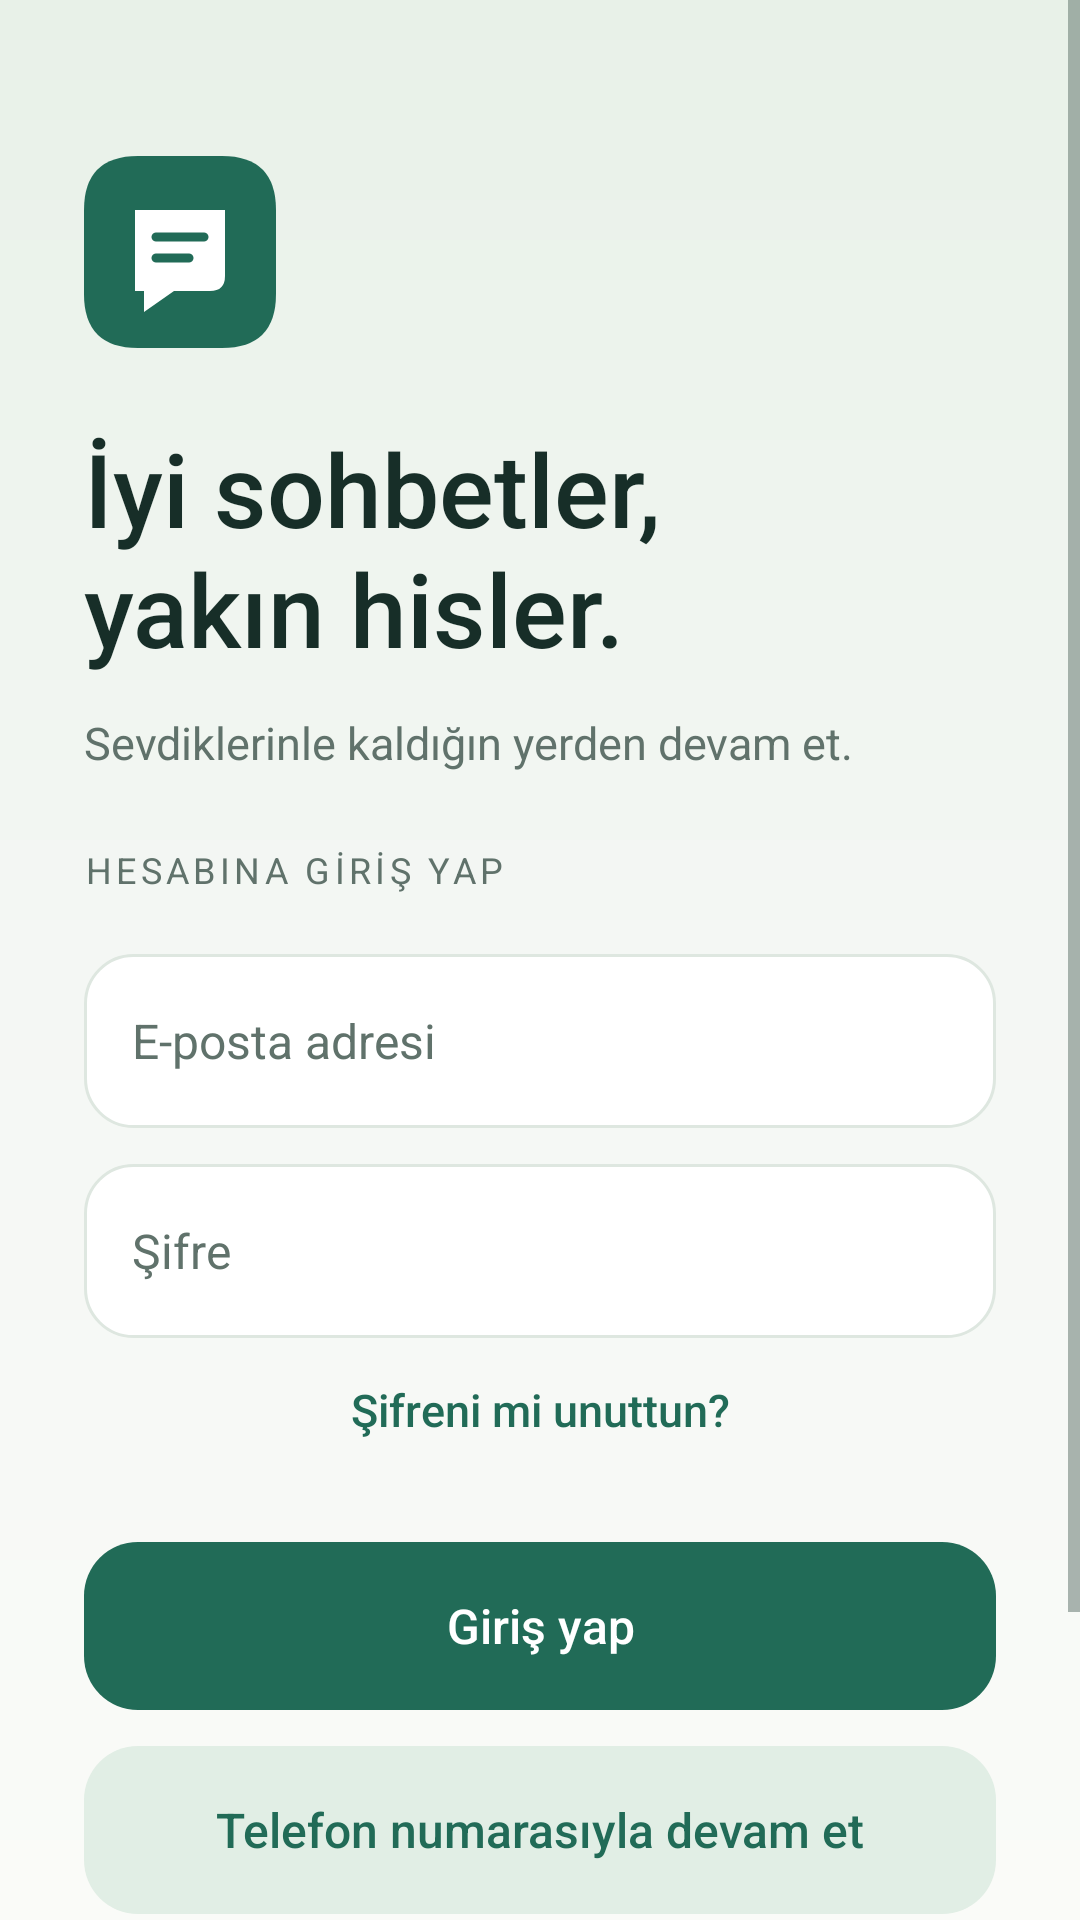

Icon bounding boxes for this 1080w x 1920h phone screenshot, format Rect(x1, y1, x2, y2):
ME Chat: Rect(84, 156, 276, 348)
